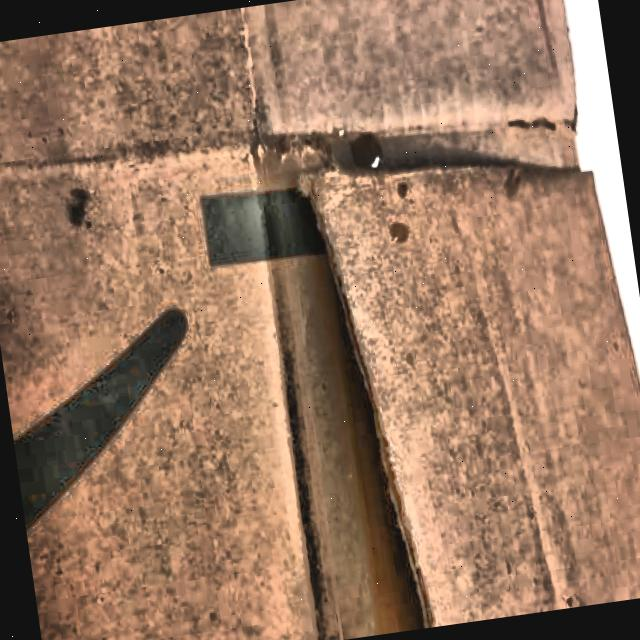cardboard: (0, 0, 630, 533)
